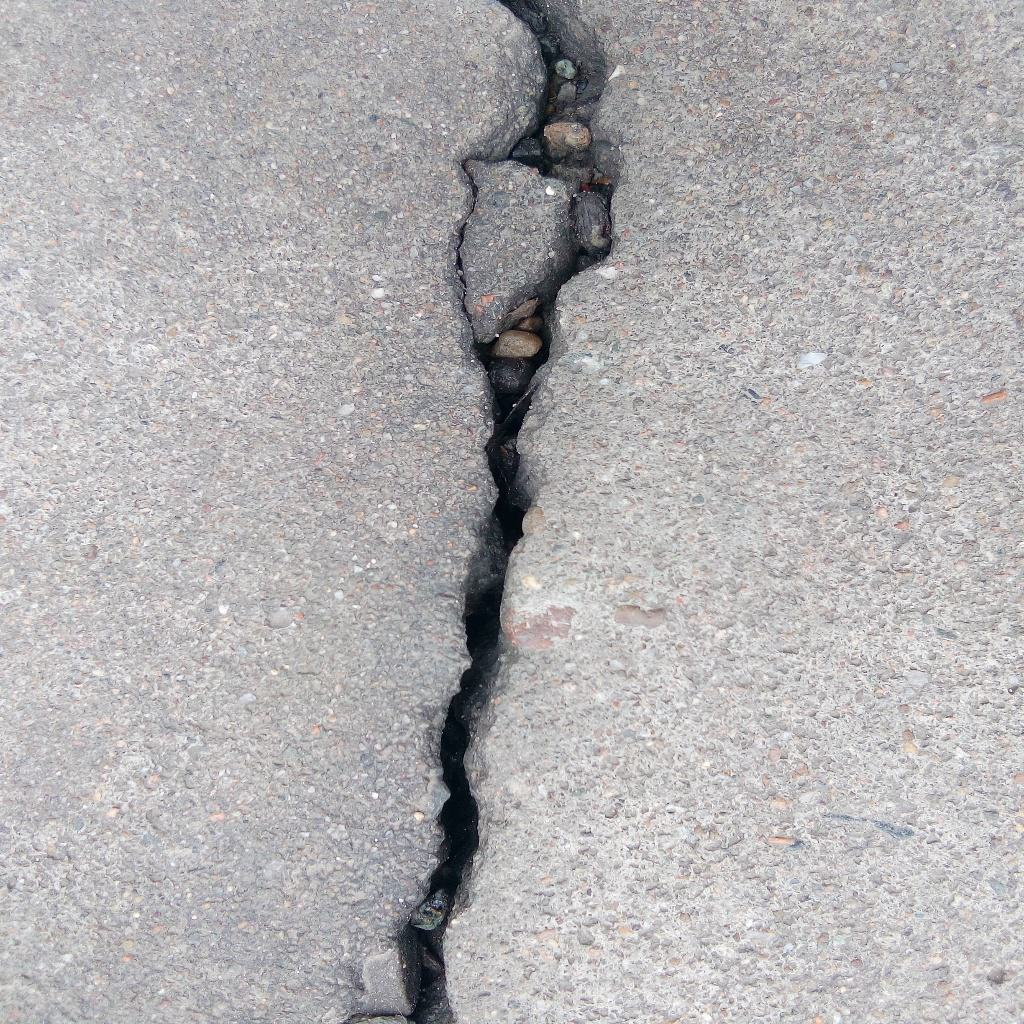Crack: (392, 1, 628, 1024)
